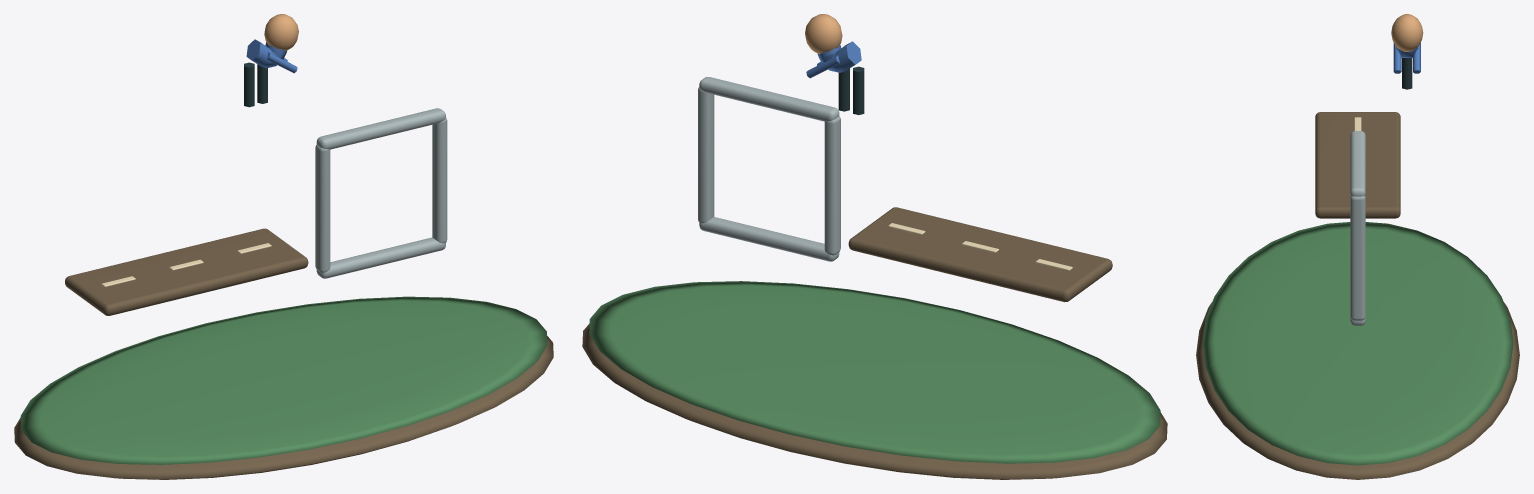
Rendered from complete-third-path-to-apology.glb.
3 views of the same model, side by side, from view 1: azimuth 30°, elevation 25°; view 2: azimuth 150°, elevation 25°; view 3: azimuth 270°, elevation 25° (orthographic). The views are drawn at different scales.
Parts seen in each view (by area): view 1: complete-third-path-to-apology_surface_01, complete-third-path-to-apology_surface_00, complete-third-path-to-apology_surface_03, complete-third-path-to-apology_surface_04, complete-third-path-to-apology_surface_05, complete-third-path-to-apology_surface_06; view 2: complete-third-path-to-apology_surface_01, complete-third-path-to-apology_surface_00, complete-third-path-to-apology_surface_03, complete-third-path-to-apology_surface_04, complete-third-path-to-apology_surface_05, complete-third-path-to-apology_surface_06; view 3: complete-third-path-to-apology_surface_01, complete-third-path-to-apology_surface_00, complete-third-path-to-apology_surface_03, complete-third-path-to-apology_surface_04, complete-third-path-to-apology_surface_05.
Boxes of the visible parts, box(x1,y1,x2,y2) form: complete-third-path-to-apology_surface_01: box(20, 296, 547, 464); complete-third-path-to-apology_surface_00: box(14, 228, 553, 479); complete-third-path-to-apology_surface_03: box(315, 108, 447, 278); complete-third-path-to-apology_surface_04: box(264, 14, 298, 50); complete-third-path-to-apology_surface_05: box(246, 39, 297, 73); complete-third-path-to-apology_surface_06: box(244, 62, 267, 107); complete-third-path-to-apology_surface_01: box(589, 281, 1160, 463); complete-third-path-to-apology_surface_00: box(582, 207, 1167, 479); complete-third-path-to-apology_surface_03: box(698, 77, 840, 261); complete-third-path-to-apology_surface_04: box(805, 14, 842, 53); complete-third-path-to-apology_surface_05: box(806, 41, 861, 78); complete-third-path-to-apology_surface_06: box(838, 66, 864, 114); complete-third-path-to-apology_surface_01: box(1202, 222, 1513, 465); complete-third-path-to-apology_surface_00: box(1196, 112, 1519, 479); complete-third-path-to-apology_surface_03: box(1350, 131, 1365, 325); complete-third-path-to-apology_surface_04: box(1391, 14, 1423, 51); complete-third-path-to-apology_surface_05: box(1393, 43, 1420, 73).
Bounding box in the file's own units: 4.56 × 3.11 × 2.5.
